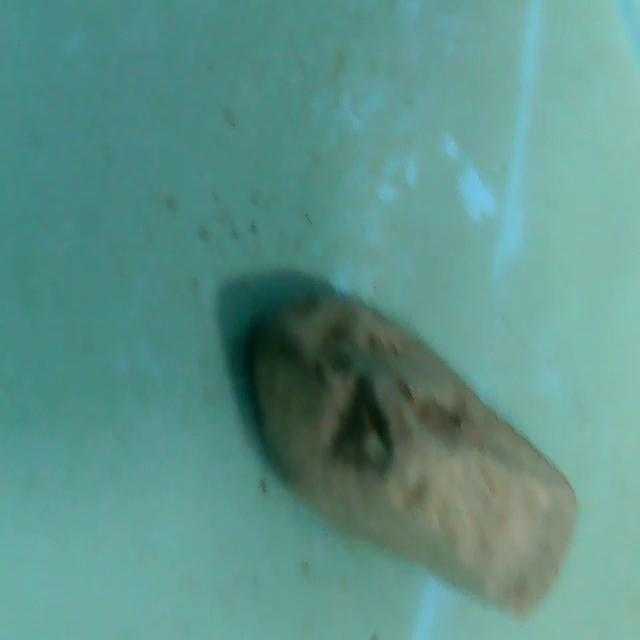rock: (238, 279, 588, 618)
